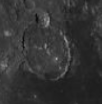crater: (12, 21, 82, 93)
